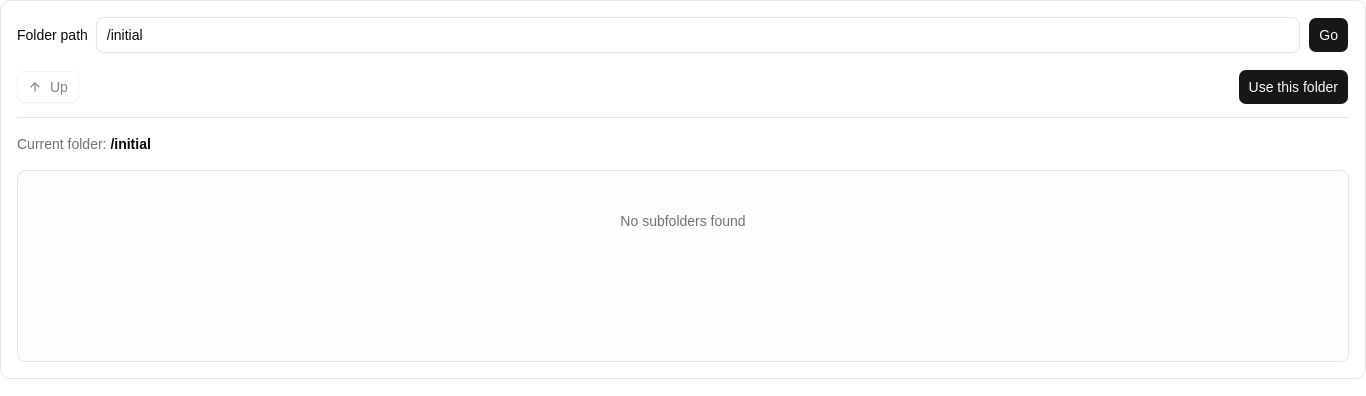
Test case: FolderBrowser › opens a typed path via Folder path input and Go button
Expected: the text "/initial" is shown, top-left (110, 136), bottom-right (151, 152)
Replace the text in the field labelled "Folder path" with "/custom/path" at (698, 35), box top-left (96, 17), bottom-right (1300, 53)
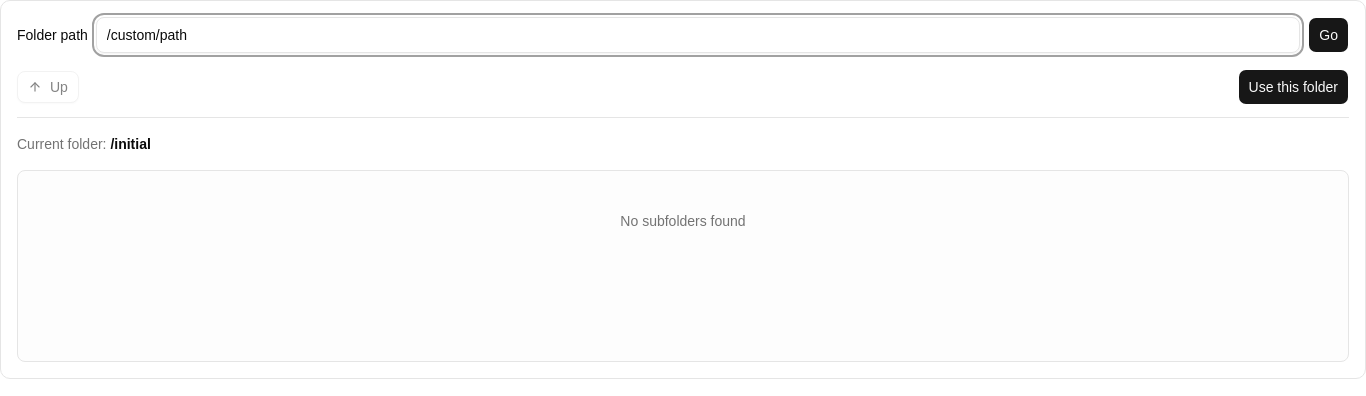
Click the button "Go" at (1329, 35), box top-left (1308, 17), bottom-right (1349, 53)
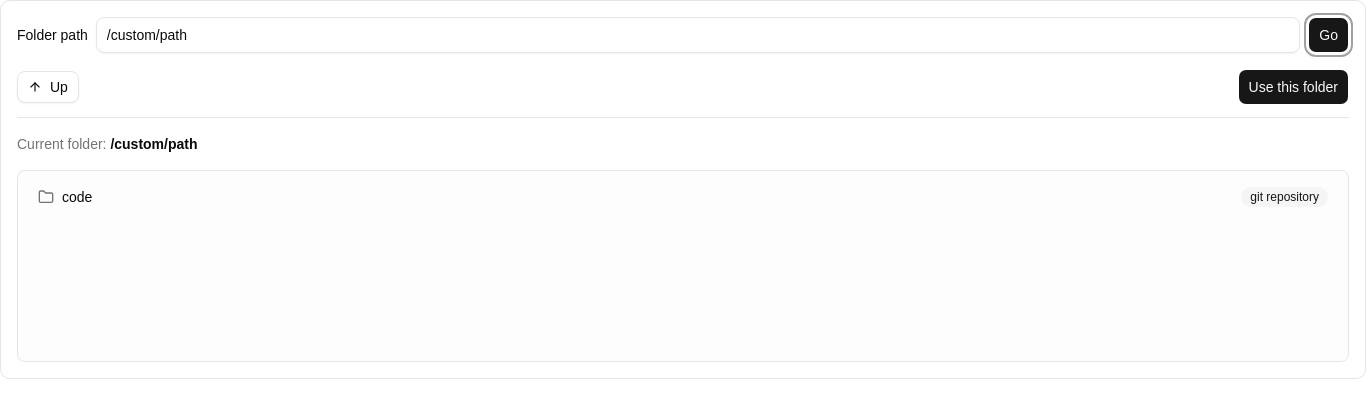
Result: the text "/custom/path" is shown at top-left (110, 136), bottom-right (198, 152)
Result: the text "code" is shown at top-left (62, 187), bottom-right (92, 207)
